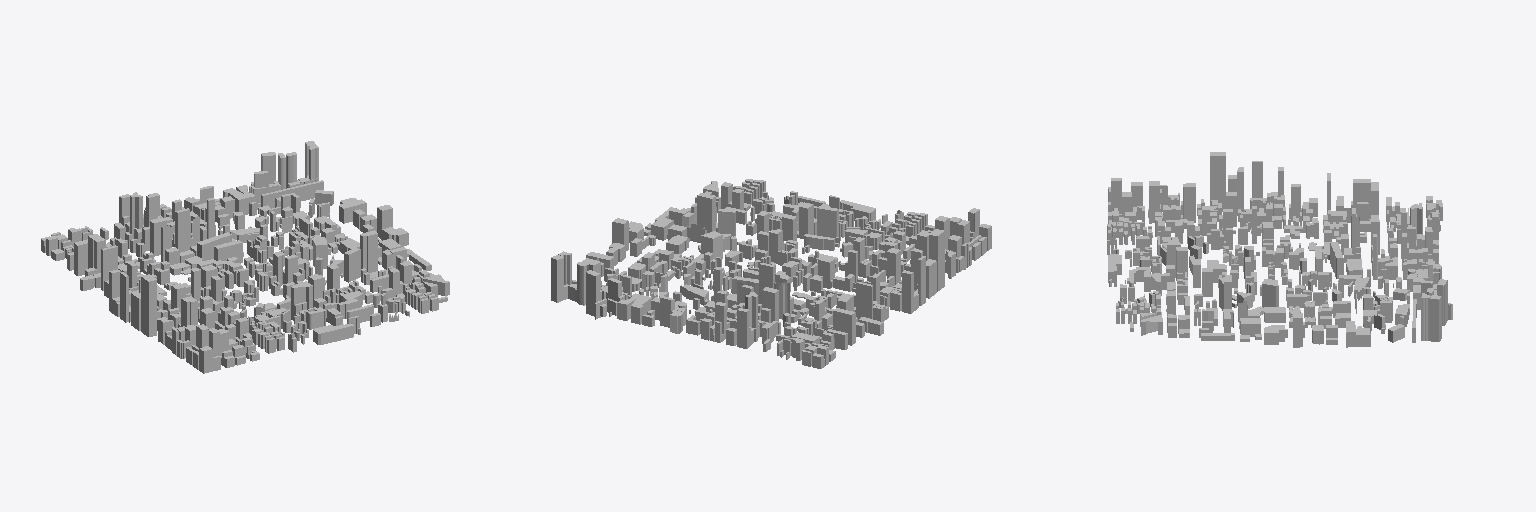
The model's file is chicago.obj.
The picture shows the model from 3 angles: view 1: azimuth 30°, elevation 25°; view 2: azimuth 150°, elevation 25°; view 3: azimuth 270°, elevation 25°; orthographic projection.
Parts seen in each view (by area): view 1: mesh_1; view 2: mesh_1; view 3: mesh_1.
Boxes of the visible parts, box(x1,y1,x2,y2) form: mesh_1: box(41, 141, 449, 373); mesh_1: box(551, 179, 991, 368); mesh_1: box(1107, 152, 1452, 347).
Size of the model in its own units: 786 by 178 by 813.